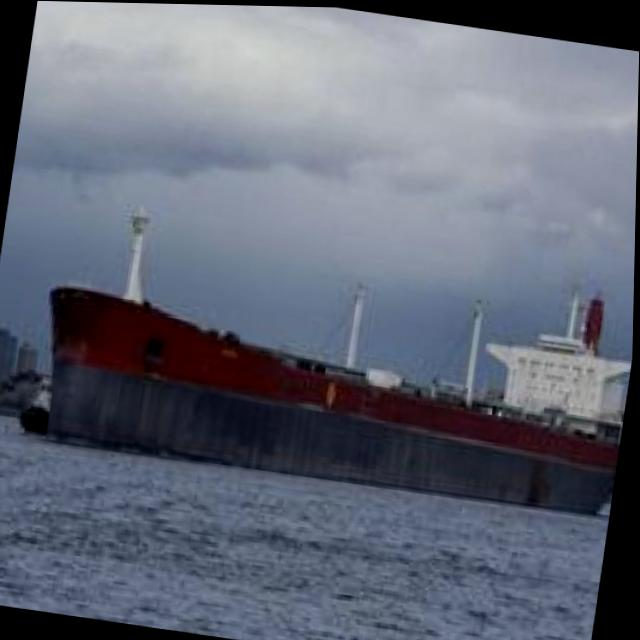ship2: (44, 208, 633, 515)
